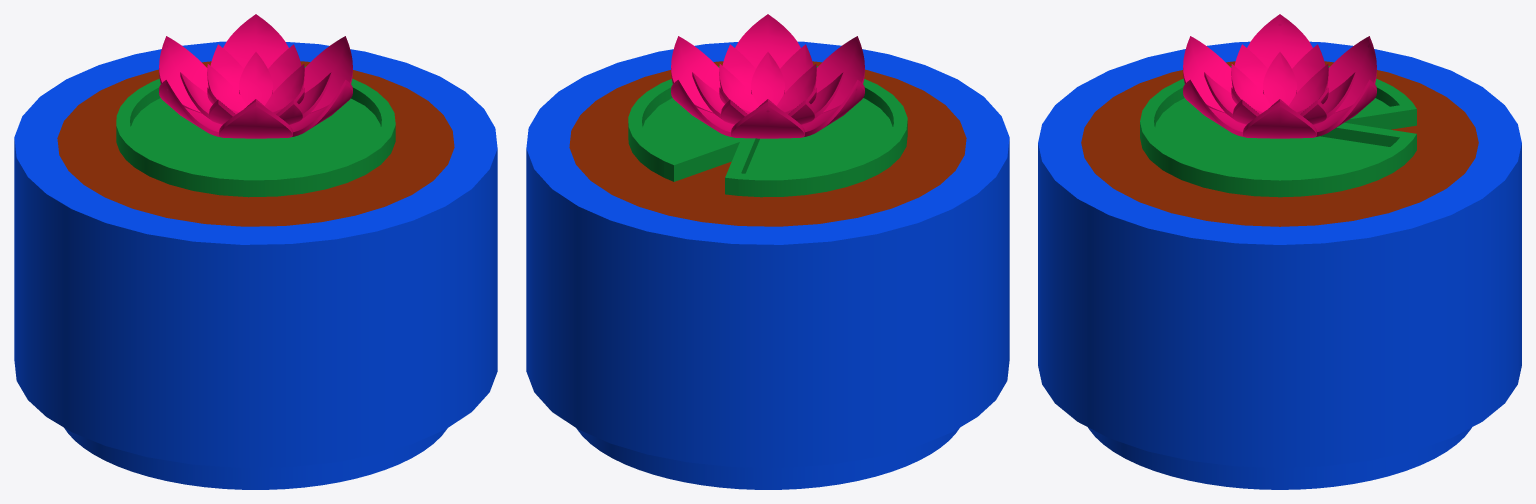
The model's file is Plant1.fbx.
The picture shows the model from 3 angles, left to right: view 1: azimuth 30°, elevation 25°; view 2: azimuth 150°, elevation 25°; view 3: azimuth 270°, elevation 25°; orthographic projection.
Visible parts, largest first — view 1: Pot_2, Dirt, Leaves, Flower; view 2: Pot_2, Dirt, Leaves, Flower; view 3: Pot_2, Dirt, Leaves, Flower.
Boxes of the visible parts, x1,y1,x2,y2 form: Pot_2: (14, 41, 497, 489); Dirt: (57, 61, 454, 226); Leaves: (116, 66, 395, 197); Flower: (159, 14, 352, 138); Pot_2: (526, 41, 1009, 489); Dirt: (569, 61, 966, 226); Leaves: (628, 66, 907, 197); Flower: (671, 14, 864, 138); Pot_2: (1038, 41, 1521, 489); Dirt: (1081, 61, 1478, 226); Leaves: (1140, 66, 1416, 197); Flower: (1183, 14, 1376, 138).
Bounding box in the file's own units: 3.28 × 2.61 × 3.28.
